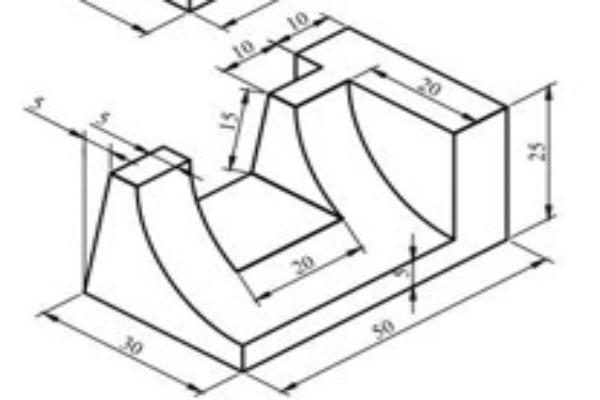dimensions: (221, 34, 262, 60), (117, 330, 146, 362), (210, 110, 247, 134), (288, 250, 320, 276), (520, 137, 550, 164), (416, 71, 444, 99), (368, 316, 399, 341), (20, 94, 54, 116), (282, 8, 312, 30), (94, 105, 114, 129)
